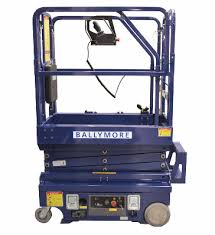Scissor Lift: (32, 5, 188, 229)
